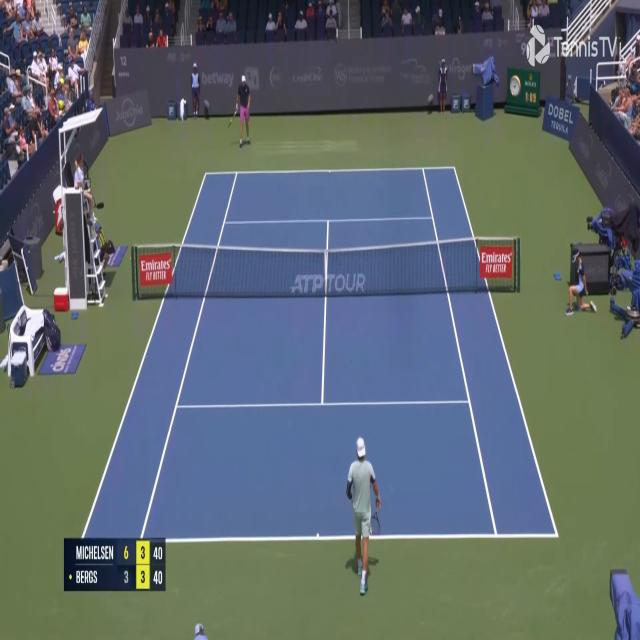tennis-player: (344, 435, 383, 596), (227, 72, 252, 148)
